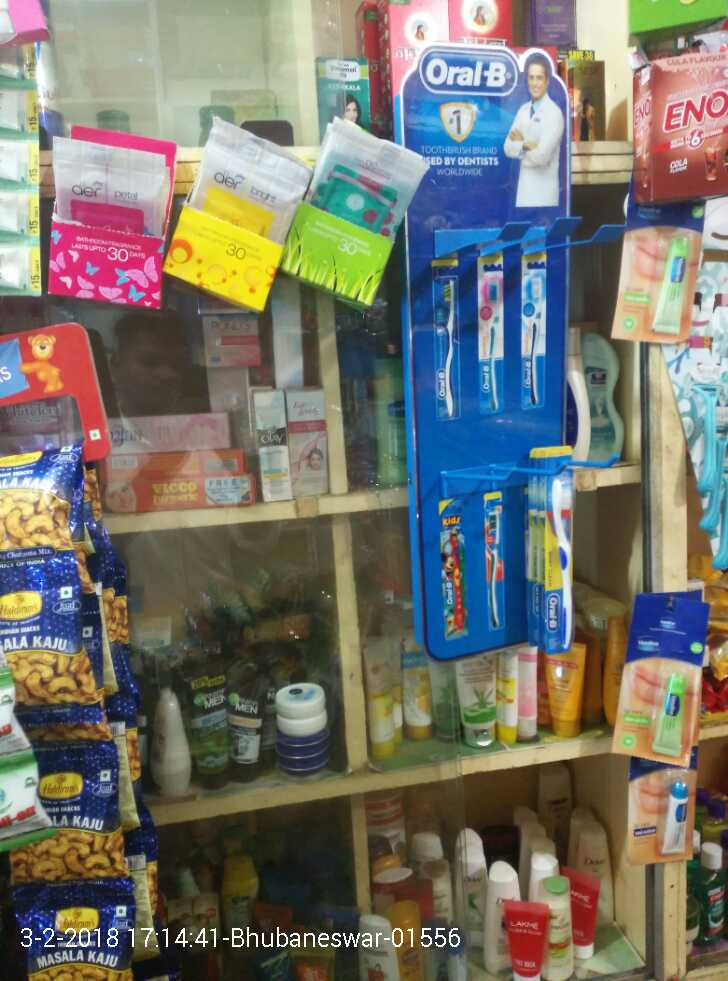oralb: (529, 467, 587, 656)
